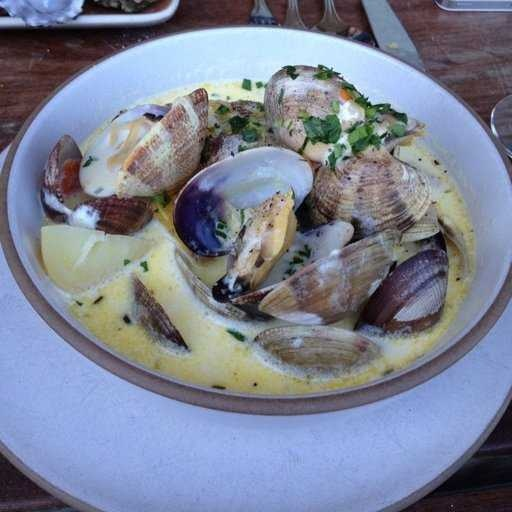soup: (38, 55, 478, 394)
